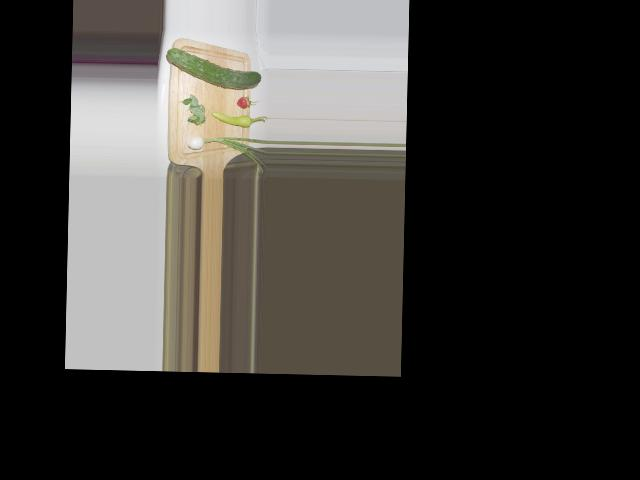cucumber: (166, 47, 261, 89)
